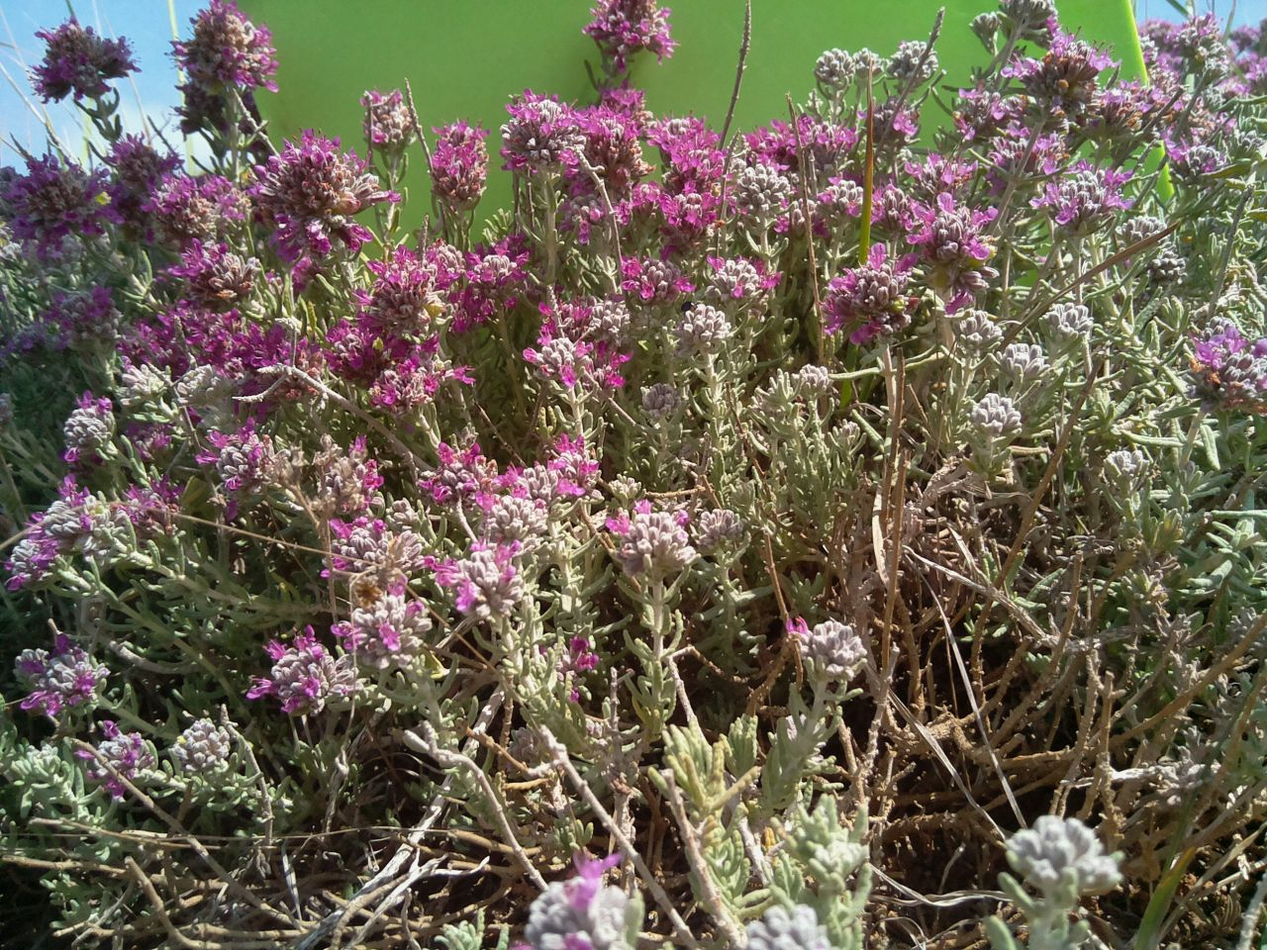Beetle: (673, 298, 702, 319)
